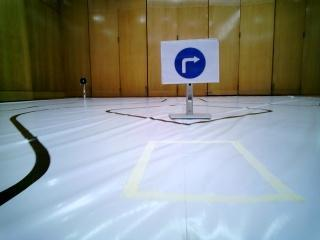right: (162, 42, 220, 82)
